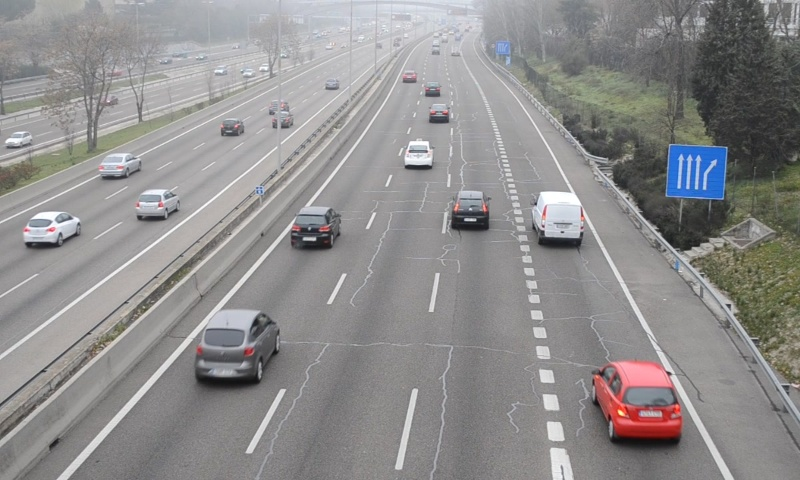car: (593, 360, 683, 440), (193, 310, 279, 382), (289, 205, 342, 246), (451, 189, 489, 230), (404, 139, 433, 168), (428, 102, 450, 123), (424, 80, 440, 96)
van: (534, 191, 584, 244)
